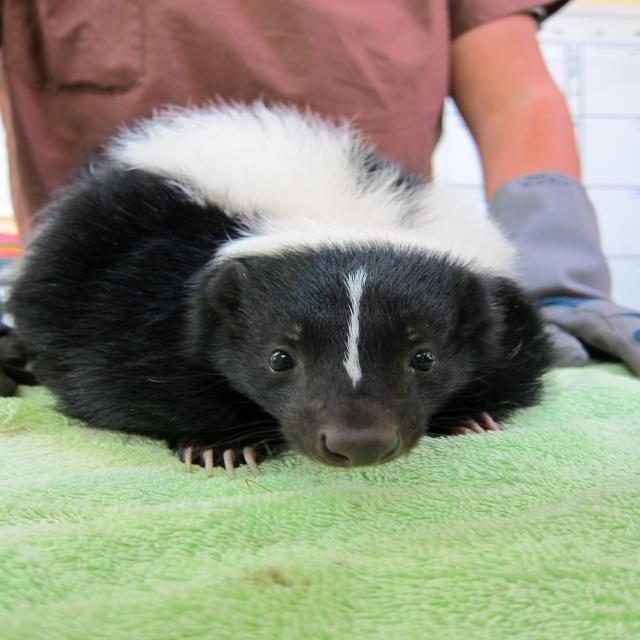Skunk: (0, 93, 572, 487)
